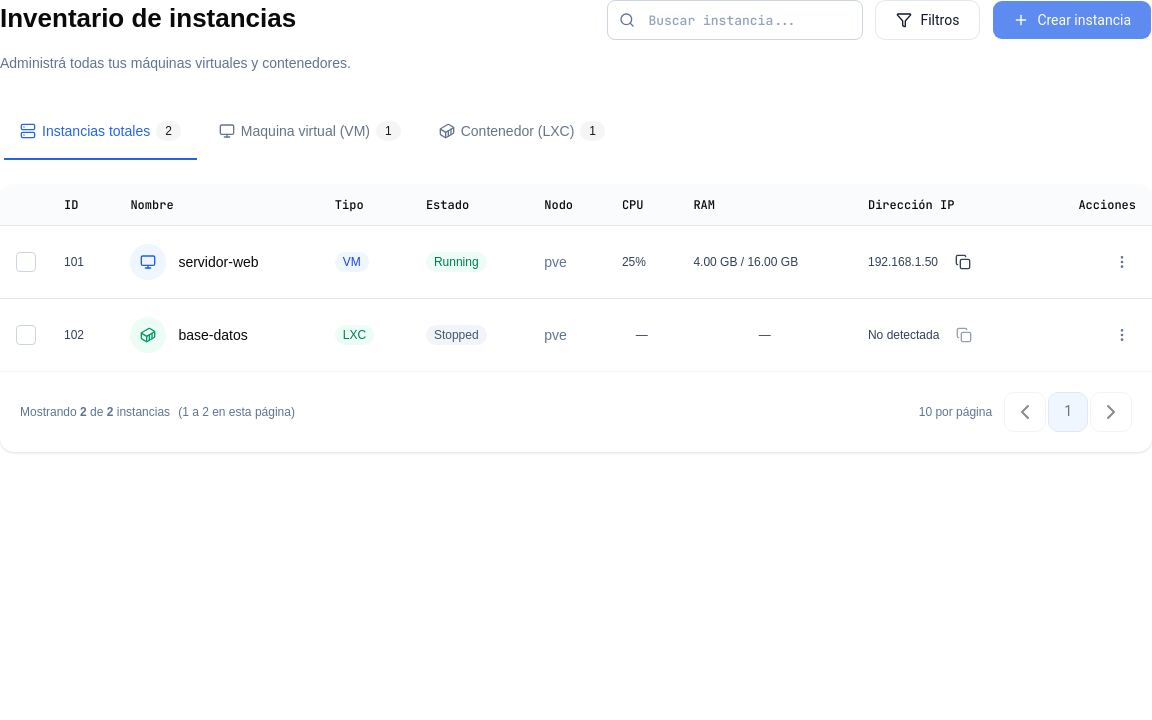
FRN-15 - Modales de confirmación antierror para acciones operativas › Start pide confirmación y cancelar no envía ninguna petición
The image size is (1152, 720).
expect the row "102 base-datos LXC Stopped pve — — No detectada" is shown: met, box [0, 298, 1151, 371]
Click the button named "Acciones para base-datos". click: [1122, 335]
box: [1108, 321, 1136, 349]
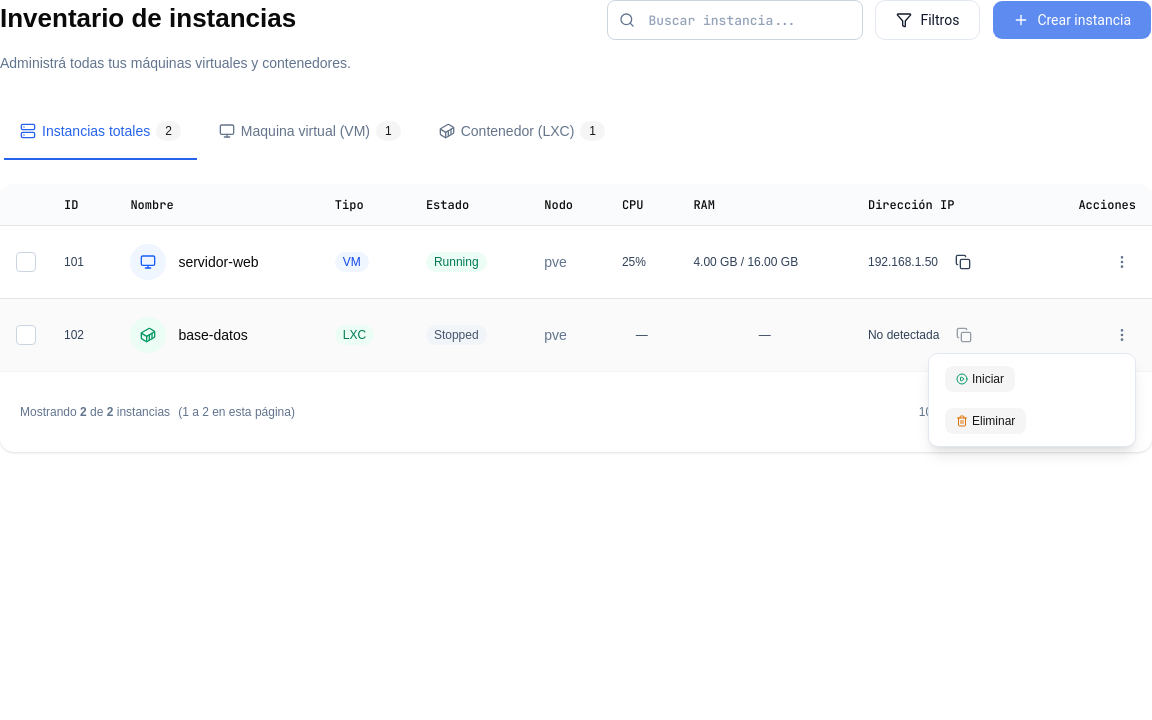
expect the menu item "Iniciar" is shown: met
Click the menu item "Iniciar". click: [1032, 379]
box: [929, 358, 1135, 400]
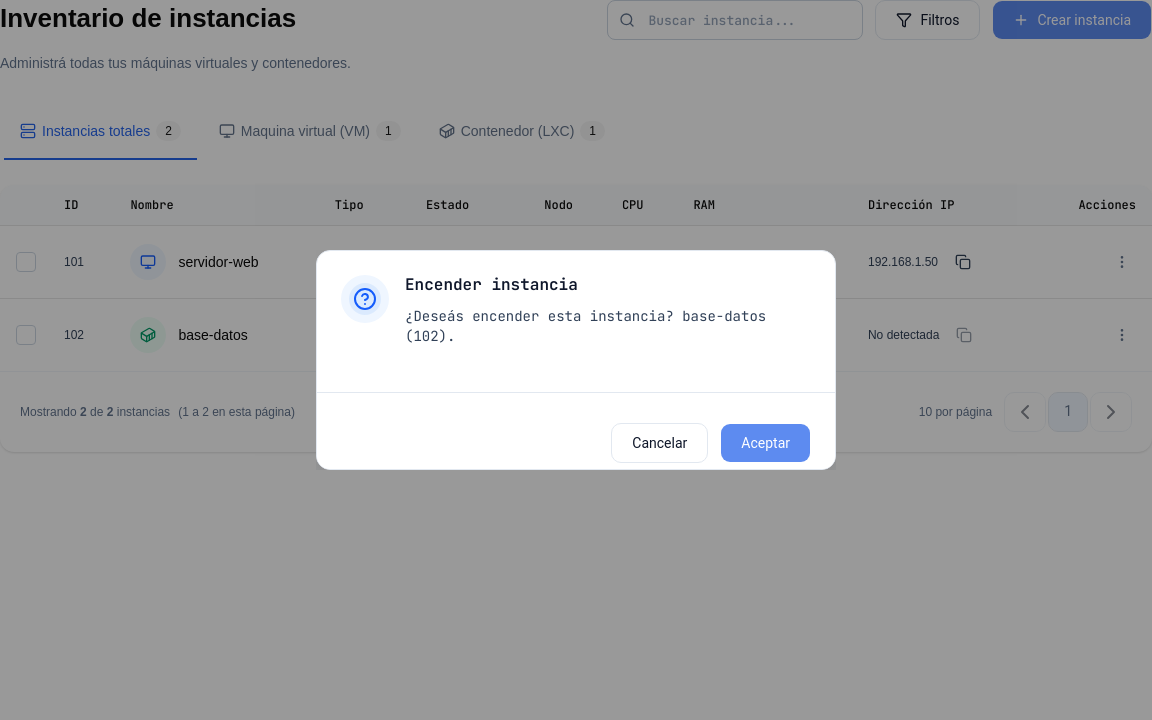
expect the dialog is shown: met, box [316, 250, 836, 470]
expect the button "Aceptar" is shown: met, box [720, 423, 811, 463]
Click the button "Cancelar". click: [660, 443]
box: [611, 423, 708, 463]
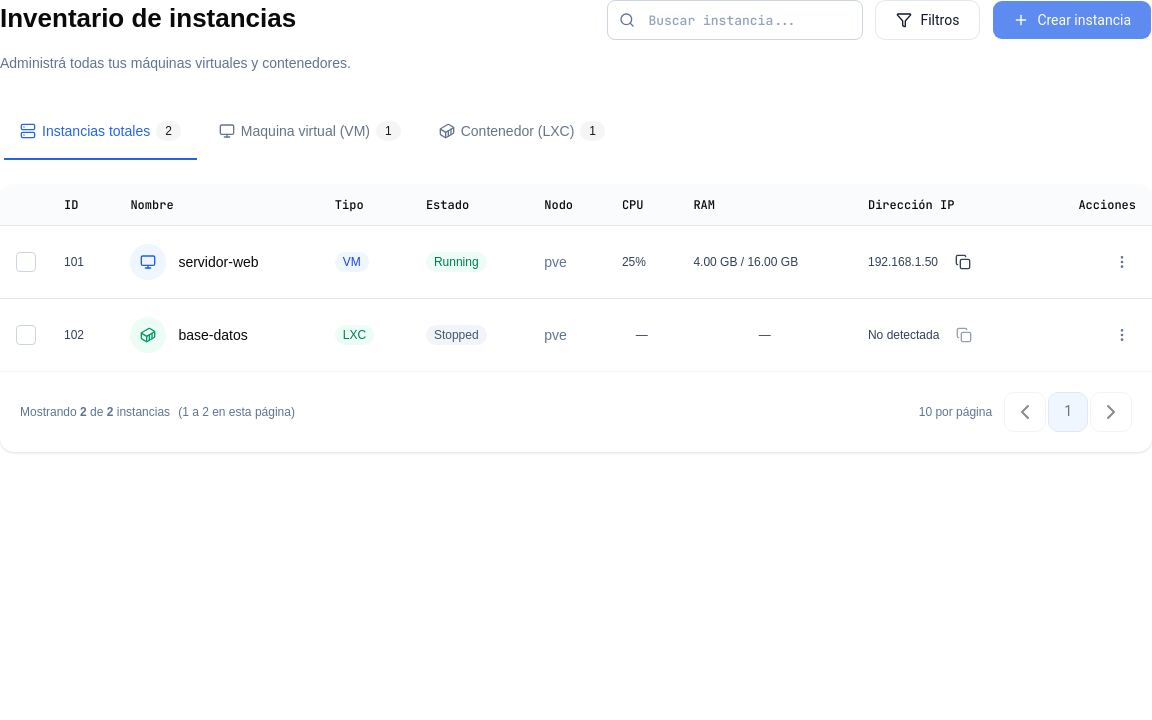
expect the dialog is gone: met
